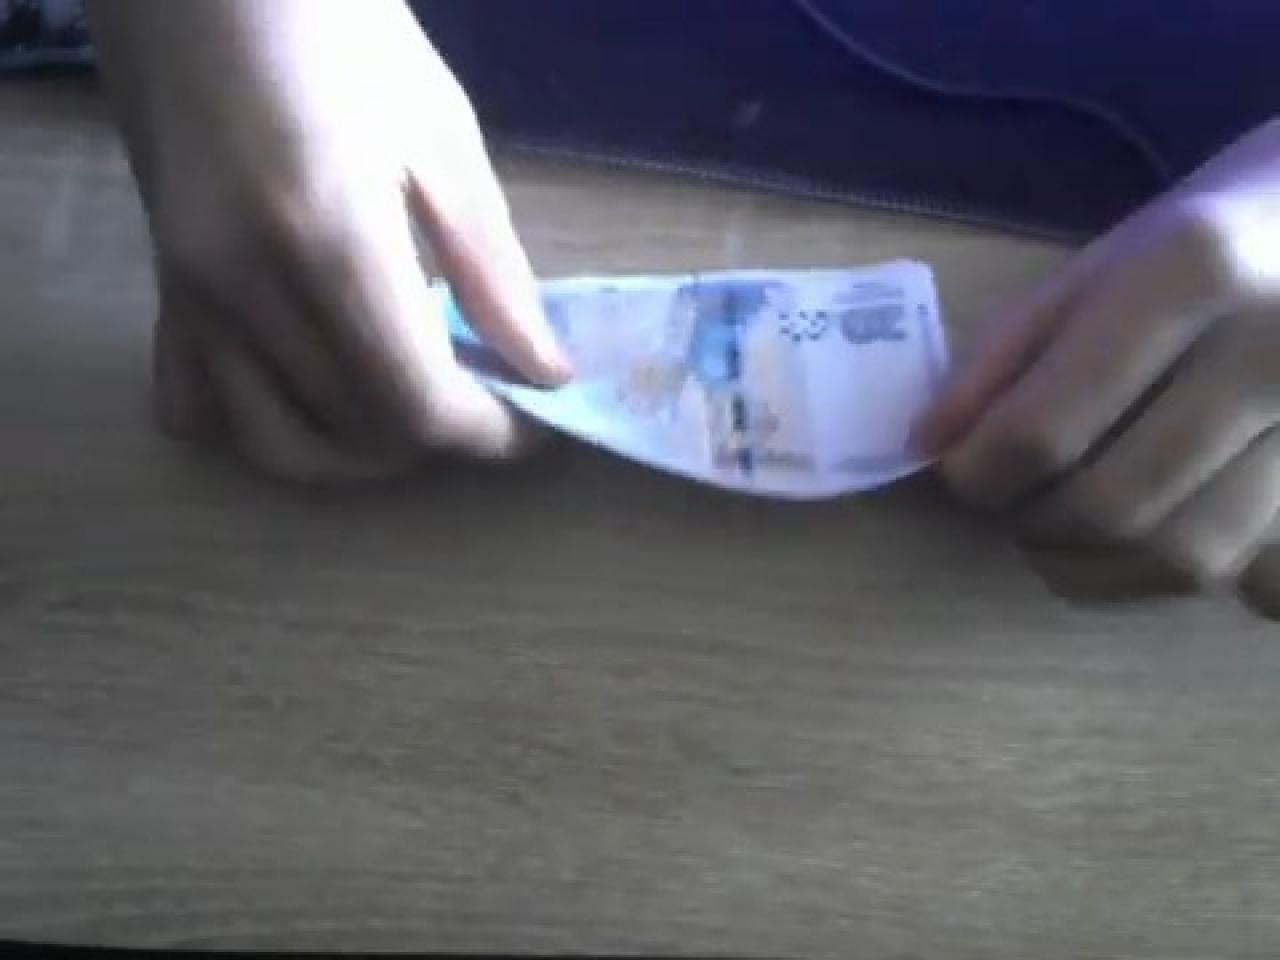20leva: (451, 261, 954, 504)
